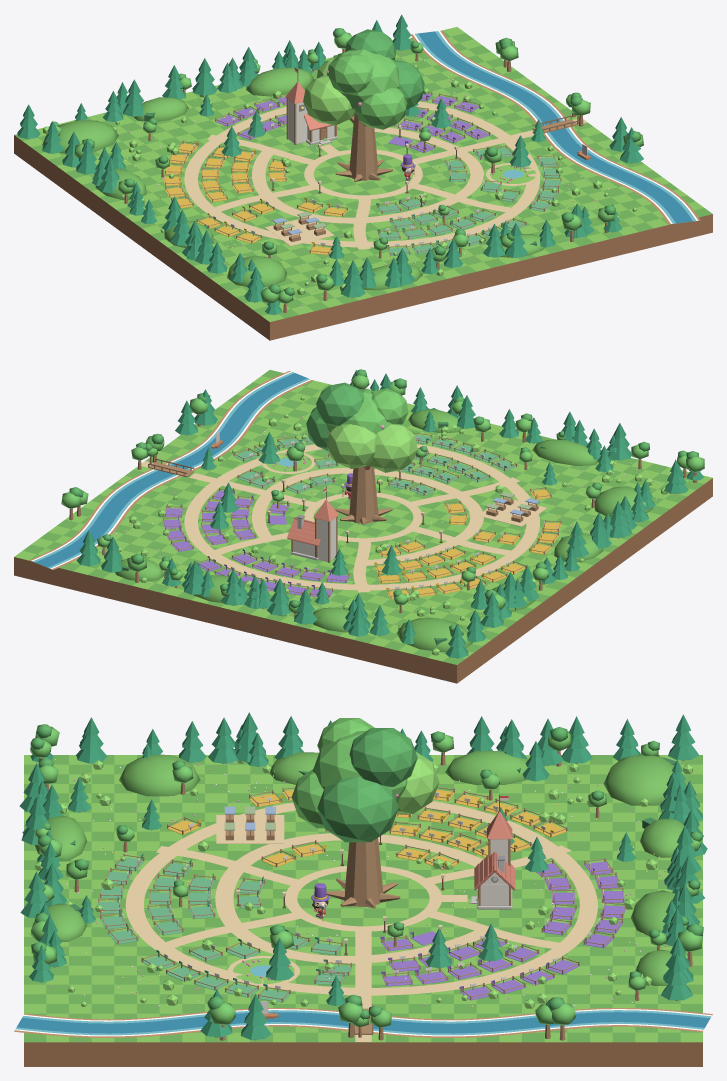
Rendered from pw_desa_static.glb.
3 views of the same model, one above another, from view 1: azimuth 30°, elevation 25°; view 2: azimuth 150°, elevation 25°; view 3: azimuth 270°, elevation 25° (orthographic). The views are drawn at different scales.
Visible parts, largest first — view 1: v5_slab, v5_x_roads, v5_x_hills, v5_x_fence, v5_x_river2, v5_x_plots_y, v5_x_plots_g, v5_x_plots_p, v5_x_bushes, v5_x_river, bt_leaf1.001, bt_leaf3.001 (+10 smaller); view 2: v5_slab, v5_x_roads, v5_x_hills, v5_x_fence, v5_x_river2, v5_x_plots_y, v5_x_plots_p, v5_x_plots_g, v5_x_bushes, bt_leaf4.001, v5_x_river, bt_leaf1.001 (+10 smaller); view 3: v5_slab, v5_x_roads, v5_x_hills, v5_x_fence, v5_x_plots_g, v5_x_plots_p, v5_x_river2, v5_x_plots_y, bt_leaf2.001, v5_x_bushes, bt_leaf5.001, v5_x_river (+10 smaller).
Part boxes in pixels (x1,y1,x2,y2): v5_slab: [14, 27, 712, 340]; v5_x_roads: [184, 101, 587, 249]; v5_x_hills: [42, 67, 544, 290]; v5_x_fence: [163, 91, 561, 255]; v5_x_river2: [418, 31, 692, 223]; v5_x_plots_y: [163, 143, 347, 254]; v5_x_plots_g: [377, 148, 561, 256]; v5_x_plots_p: [215, 93, 489, 152]; v5_x_bushes: [42, 64, 636, 294]; v5_x_river: [415, 31, 696, 223]; bt_leaf1.001: [303, 74, 355, 125]; bt_leaf3.001: [354, 88, 407, 129]; v5_slab: [14, 370, 712, 683]; v5_x_roads: [141, 444, 546, 592]; v5_x_hills: [115, 409, 653, 652]; v5_x_fence: [163, 432, 561, 598]; v5_x_river2: [35, 373, 307, 567]; v5_x_plots_y: [375, 489, 561, 598]; v5_x_plots_p: [163, 490, 349, 597]; v5_x_plots_g: [234, 434, 517, 495]; v5_x_bushes: [118, 396, 667, 655]; bt_leaf4.001: [326, 424, 376, 468]; v5_x_river: [32, 372, 309, 568]; bt_leaf1.001: [369, 424, 417, 472]; v5_slab: [24, 755, 702, 1066]; v5_x_roads: [125, 801, 597, 1041]; v5_x_hills: [34, 751, 688, 985]; v5_x_fence: [98, 787, 624, 1001]; v5_x_plots_g: [97, 857, 352, 1002]; v5_x_plots_p: [381, 861, 625, 1000]; v5_x_river2: [17, 1012, 710, 1033]; v5_x_plots_y: [166, 789, 567, 870]; bt_leaf2.001: [317, 776, 398, 842]; v5_x_bushes: [35, 760, 692, 1008]; bt_leaf5.001: [349, 728, 417, 786]; v5_x_river: [15, 1010, 711, 1035].
Size of the model in its own units: 153 by 49.31 by 154.
